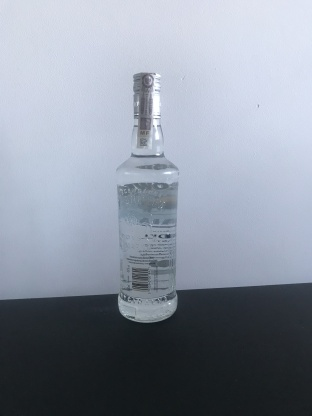nakretka: (130, 68, 163, 122)
